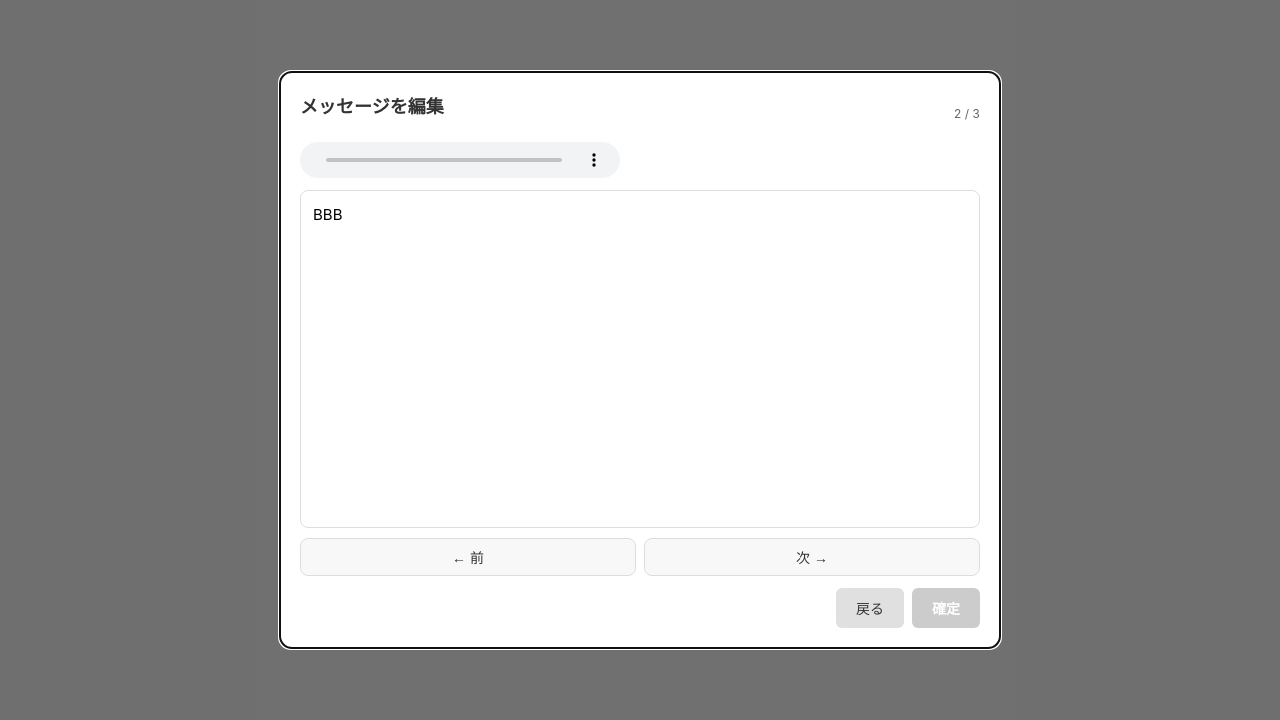
Test: VoiceEditModal — 添付音声からの連続編集 (#379) › ★ 保存に失敗したら移動しない (編集を黙って捨てない)
Replace the text in the text box with "直した" at [640, 359], box [300,190,980,528]
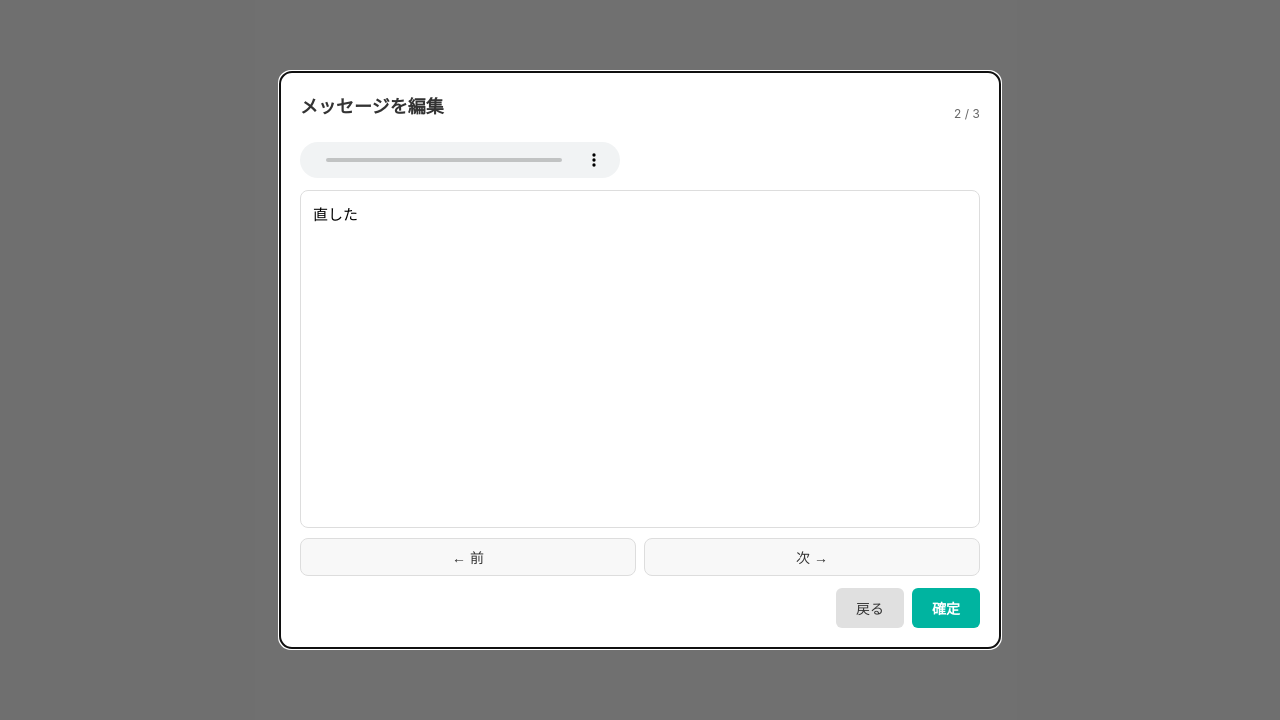
Click the button "次 →" at [812, 557], box [644,538,980,576]
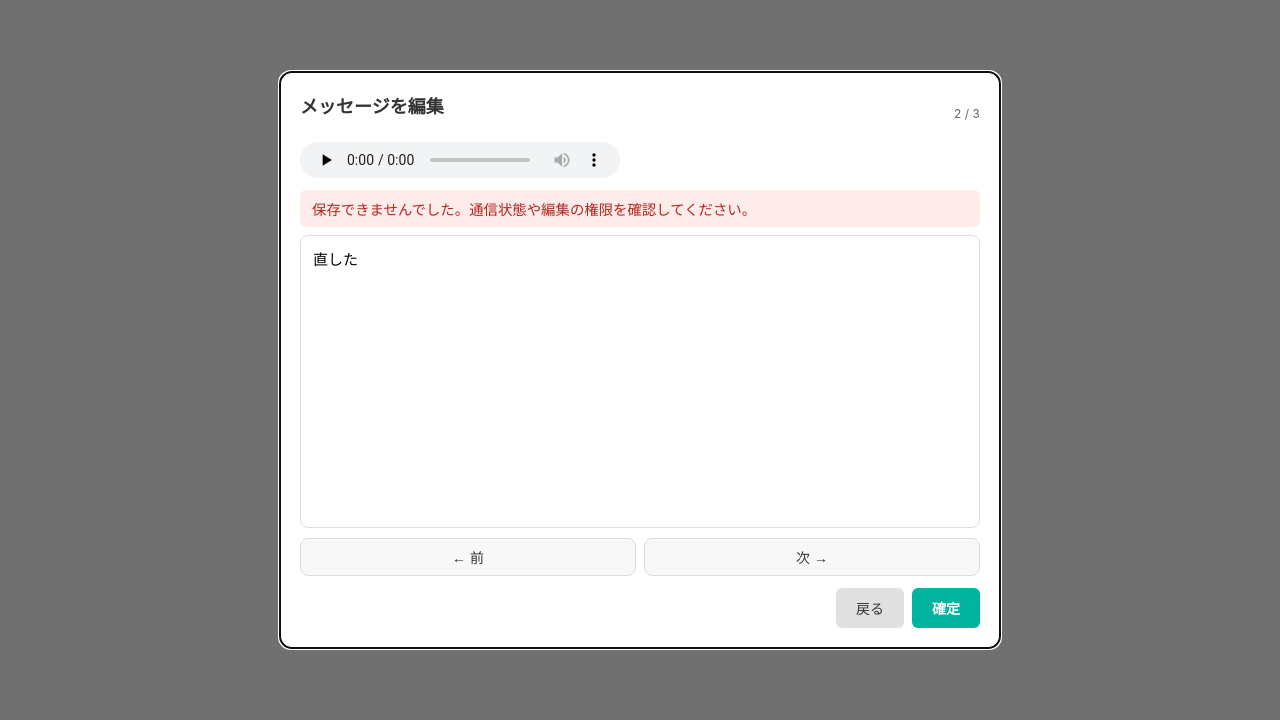
Now the text "保存できませんでした。通信状態や編集の権限を確認してください。" is shown, box [300,190,980,227]
